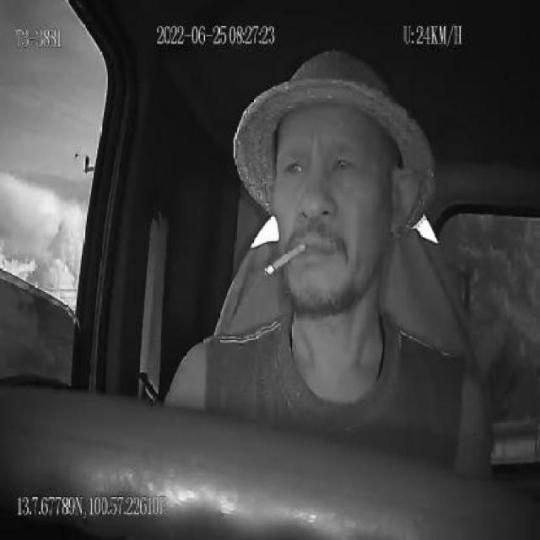smoking: (263, 241, 308, 278)
